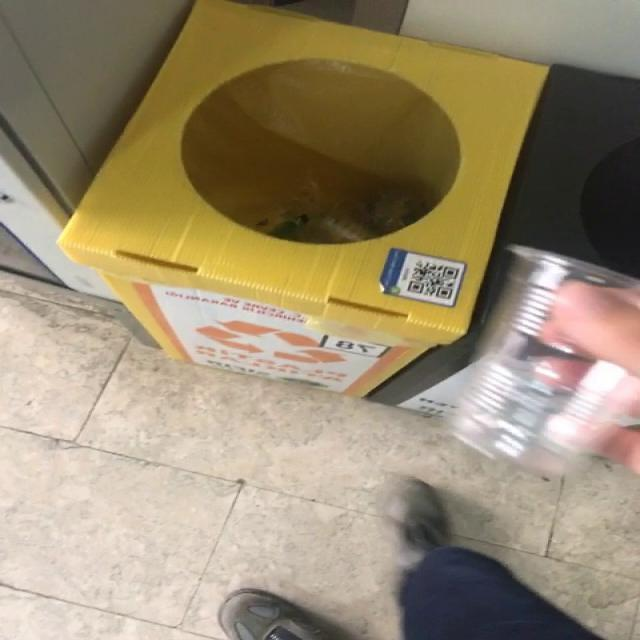Plastic: (452, 246, 639, 472)
